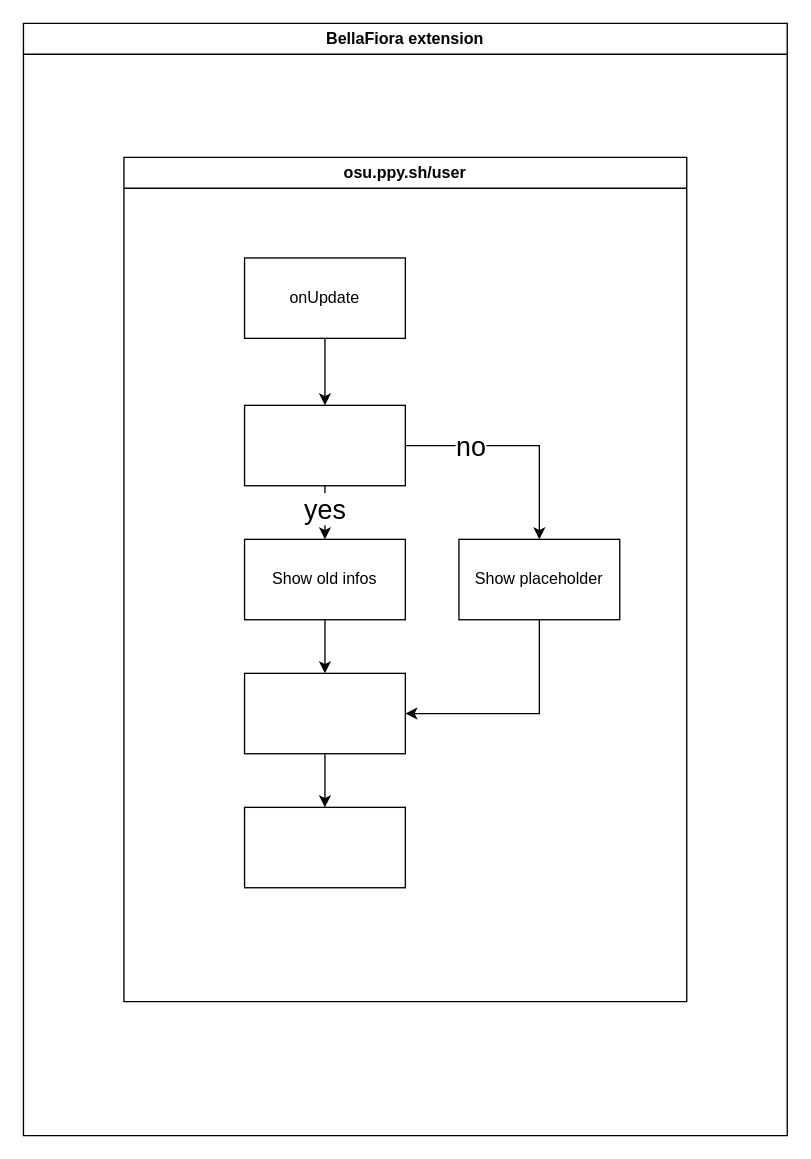
Image size: 811x1159. Some labels were removed from this diagram. The shapes that lost their labels are listed below. From the top down, each one's centre as x and y in pixels, then its label:
the point at 324,445: userId in cache?
the point at 324,713: fetch userInfos
the point at 324,847: update DOM
